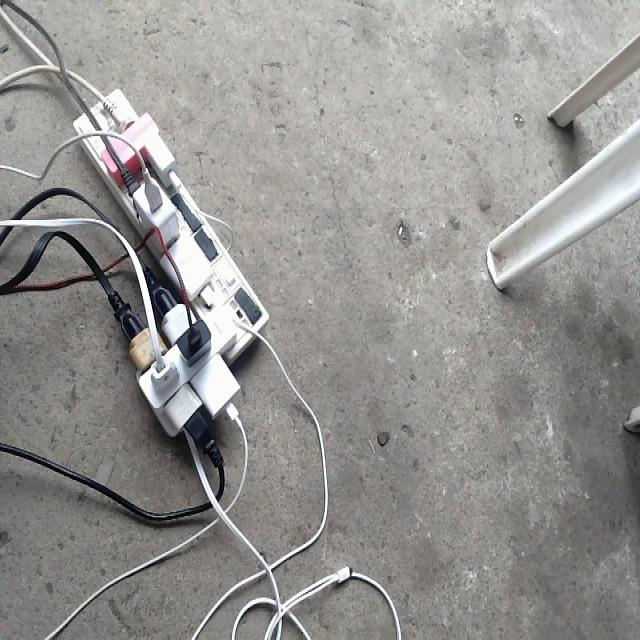-: (72, 86, 269, 466)
